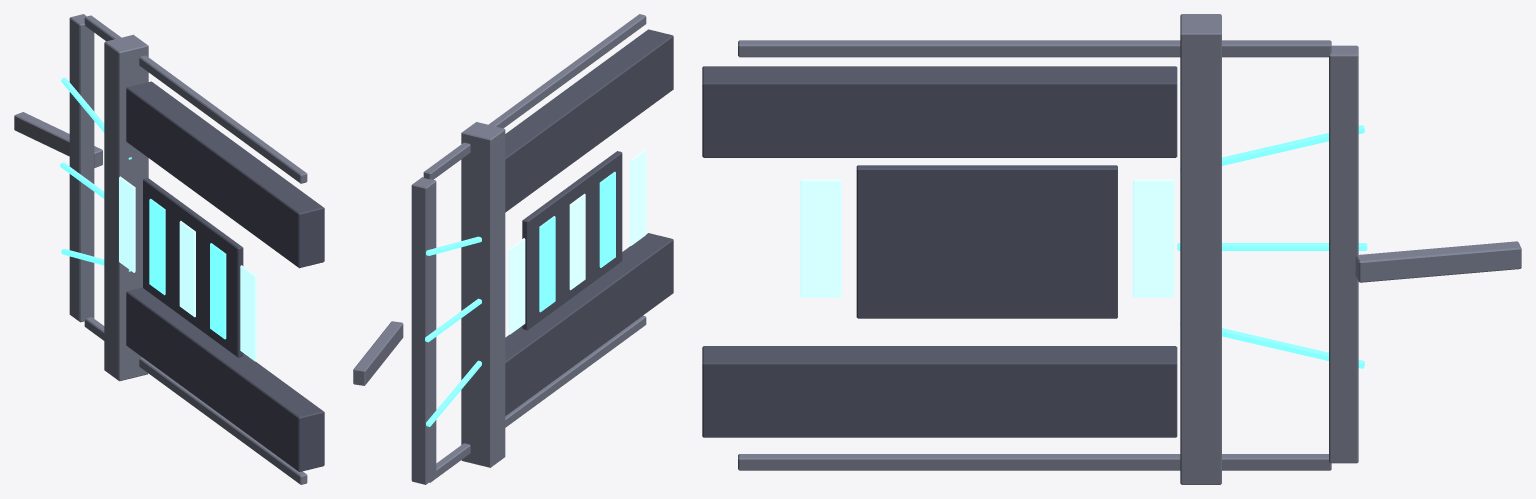
Rendered from facade_bridge_r.glb.
The picture shows the model from 3 angles, left to right: view 1: azimuth 30°, elevation 25°; view 2: azimuth 150°, elevation 25°; view 3: azimuth 270°, elevation 25°; orthographic projection. The views are drawn at different scales.
Parts seen in each view (by area): view 1: FacadeBridge_R; view 2: FacadeBridge_R; view 3: FacadeBridge_R.
Boxes of the visible parts, x1=… form: FacadeBridge_R: x1=14, y1=14, x2=324, y2=484; FacadeBridge_R: x1=353, y1=14, x2=673, y2=484; FacadeBridge_R: x1=702, y1=14, x2=1521, y2=484.
Bounding box in the file's own units: 0.6952 × 4.2 × 6.9.
